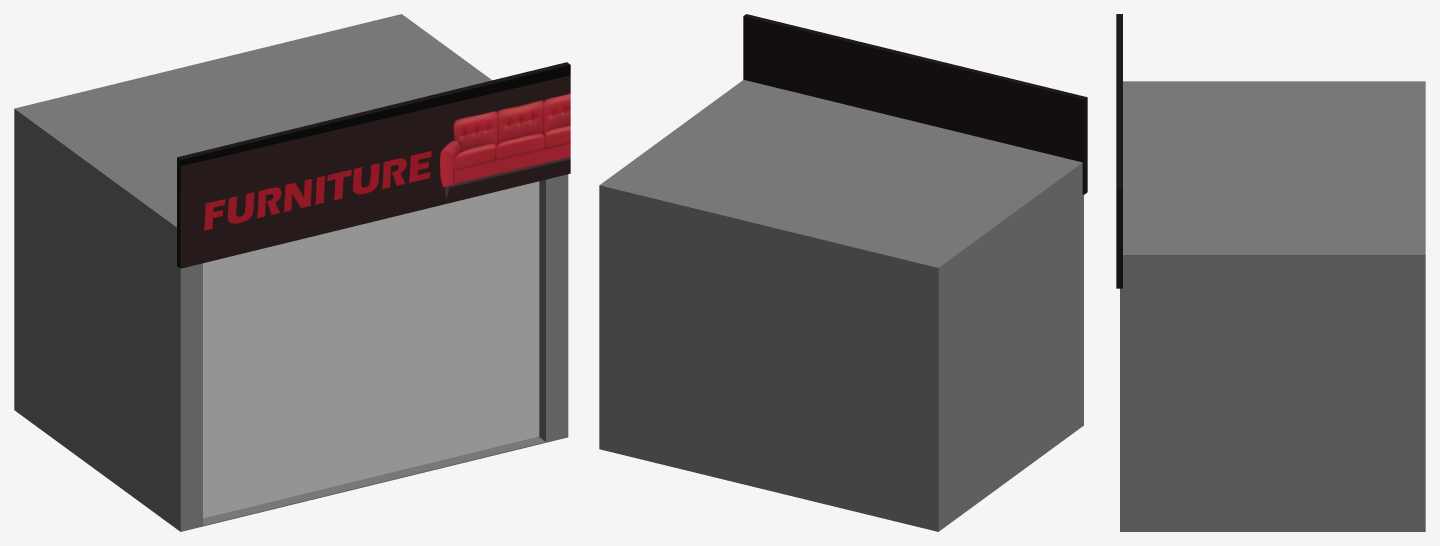
File: shop 4.fbx
The picture shows the model from 3 angles, left to right: view 1: azimuth 30°, elevation 25°; view 2: azimuth 150°, elevation 25°; view 3: azimuth 270°, elevation 25°; orthographic projection. The views are drawn at different scales.
Parts seen in each view (by area): view 1: pCube17, pPlane2, pCube18; view 2: pCube17, pCube18; view 3: pCube17, pCube18.
Boxes of the visible parts, x1,y1,x2,y2 form: pCube17: (14,14,568,531); pPlane2: (203,181,539,518); pCube18: (177,62,570,268); pCube17: (599,80,1083,531); pCube18: (743,14,1087,194); pCube17: (1120,81,1425,531); pCube18: (1116,14,1122,288).
Bounding box in the file's own units: 6.38 × 5.85 × 4.77.
